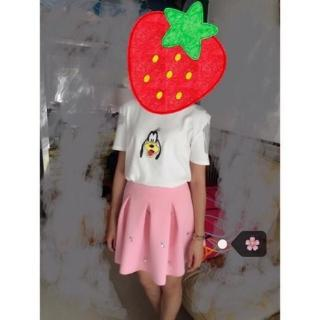short sleeve top: (112, 93, 211, 188)
skirt: (115, 180, 198, 285)
